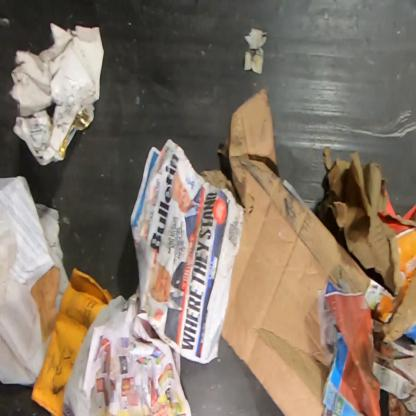cardboard: (198, 85, 371, 415), (317, 144, 415, 415)
